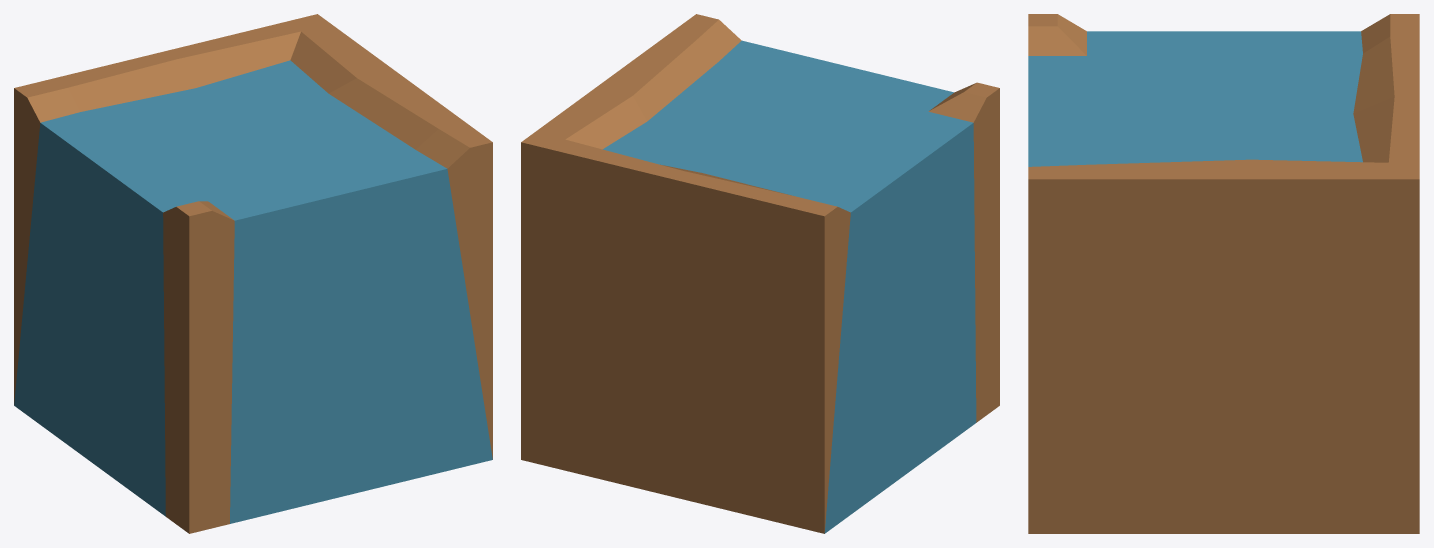
Rendered from innerOuterCorner_river_tex_001.fbx.
The picture shows the model from 3 angles, left to right: view 1: azimuth 30°, elevation 25°; view 2: azimuth 150°, elevation 25°; view 3: azimuth 270°, elevation 25°; orthographic projection. The views are drawn at different scales.
Visible parts, largest first — view 1: inneroutercorner_river; view 2: inneroutercorner_river; view 3: inneroutercorner_river.
Boxes of the visible parts, x1,y1,x2,y2 form: inneroutercorner_river: (14,14,492,533); inneroutercorner_river: (521,14,999,533); inneroutercorner_river: (1028,14,1419,533).
Size of the model in its own units: 100 by 100 by 100.
